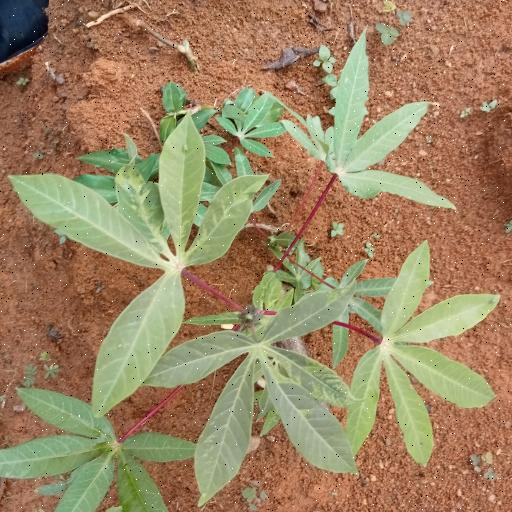Cassava_Mosaic: (151, 296, 361, 480)
